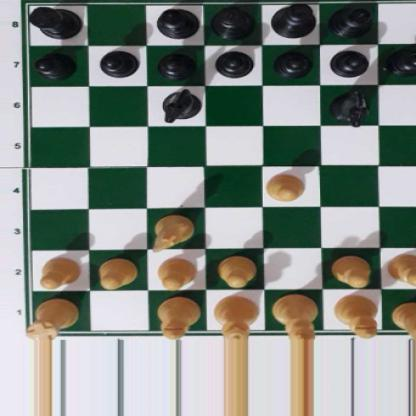black-bishop: (326, 3, 375, 36), (153, 6, 198, 37)
black-king: (266, 1, 316, 39)
black-knight: (330, 89, 370, 126), (161, 88, 199, 121)
black-pawn: (330, 46, 369, 77), (214, 47, 252, 78), (99, 48, 137, 78), (272, 47, 310, 77), (34, 51, 75, 78), (157, 50, 195, 79), (388, 46, 416, 76)
black-queen: (209, 3, 255, 39)
black-rook: (24, 3, 81, 39)
white-bishop: (333, 294, 380, 339), (156, 296, 199, 340)
white-king: (272, 295, 317, 341)
white-knight: (150, 212, 193, 250), (390, 300, 416, 339)
white-pawn: (36, 255, 80, 289), (330, 253, 371, 289), (153, 257, 196, 289), (215, 254, 255, 286), (96, 257, 136, 289), (265, 172, 305, 203), (386, 251, 416, 285)
white-queen: (212, 294, 258, 341)
white-rook: (28, 294, 77, 341)
